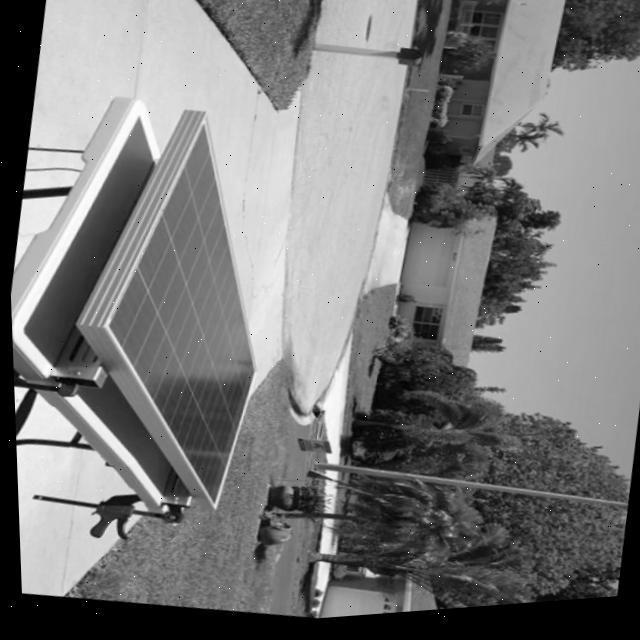Normal Solar Panel: (73, 104, 297, 522)
